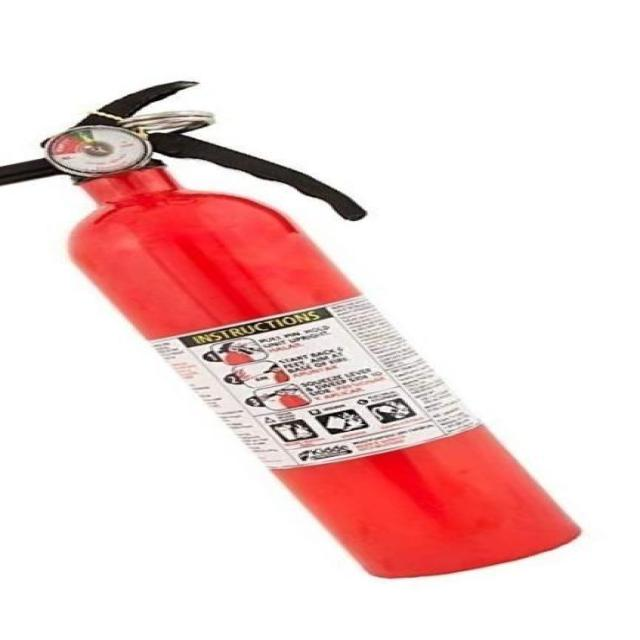fire_extinguisher: (0, 77, 593, 586)
